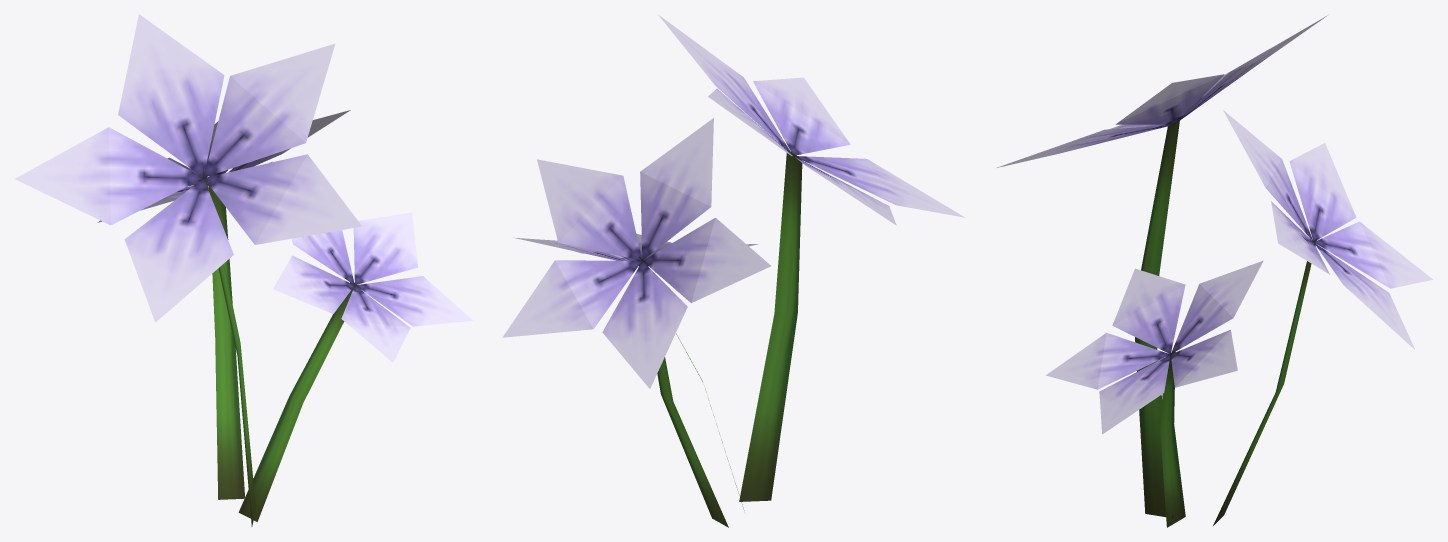
Rendered from Garden_flower_lilac.fbx.
The picture shows the model from 3 angles, left to right: view 1: azimuth 30°, elevation 25°; view 2: azimuth 150°, elevation 25°; view 3: azimuth 270°, elevation 25°; orthographic projection. The views are drawn at different scales.
Parts seen in each view (by area): view 1: Garden_flower_lilac; view 2: Garden_flower_lilac; view 3: Garden_flower_lilac.
Boxes of the visible parts, x1,y1,x2,y2 form: Garden_flower_lilac: [15, 14, 473, 526]; Garden_flower_lilac: [502, 14, 964, 527]; Garden_flower_lilac: [996, 15, 1432, 527].
Size of the model in its own units: 35.31 by 40.76 by 32.96.
1 material, 1 textured.
